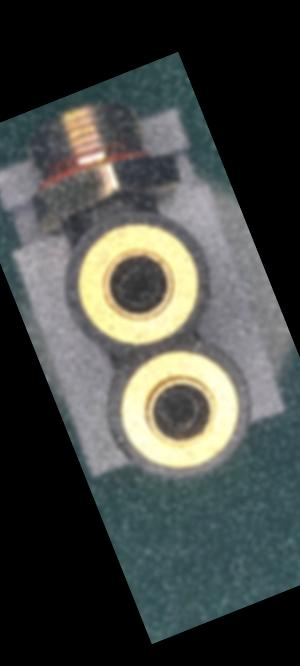bump: (106, 418, 147, 470), (196, 265, 218, 297)
off-centered: (148, 374, 208, 439), (105, 258, 167, 317)
